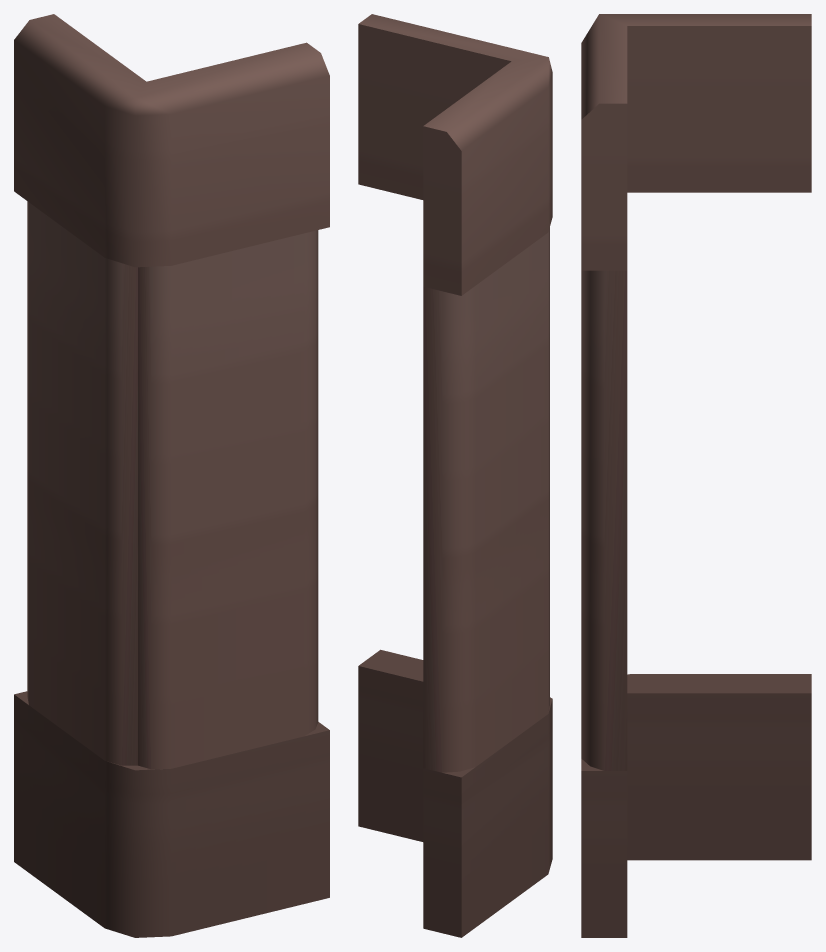
The model's file is Panel_Brown_01.glb.
The picture shows the model from 3 angles, left to right: view 1: azimuth 30°, elevation 25°; view 2: azimuth 150°, elevation 25°; view 3: azimuth 270°, elevation 25°; orthographic projection. The views are drawn at different scales.
Visible parts, largest first — view 1: Panel_Brown_01; view 2: Panel_Brown_01; view 3: Panel_Brown_01.
Boxes of the visible parts, x1,y1,x2,y2 form: Panel_Brown_01: (14,14,329,937); Panel_Brown_01: (358,14,552,937); Panel_Brown_01: (581,14,811,937).
Bounding box in the file's own units: 0.25 × 1 × 0.25.
Materials: 1 (1 with a texture image).
